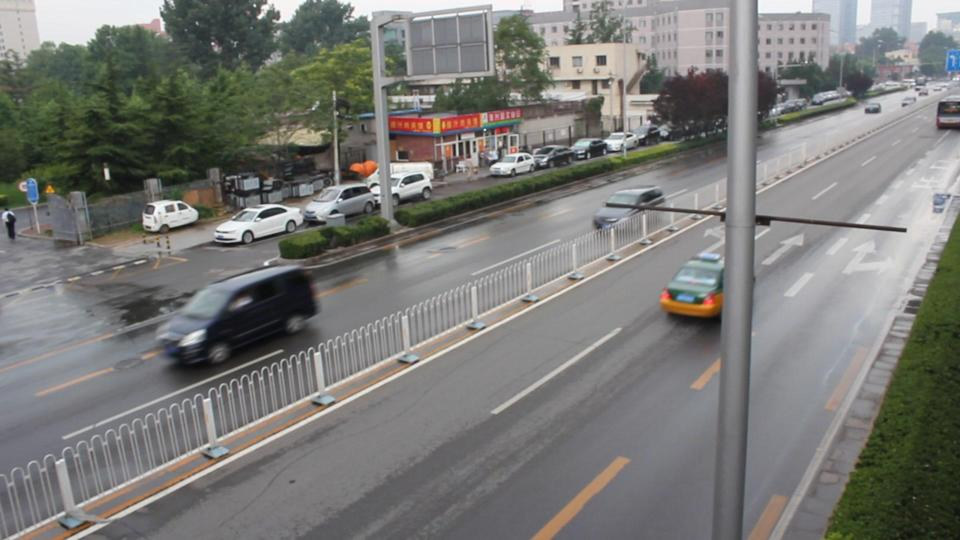bus: (935, 95, 960, 129)
car: (154, 264, 320, 367), (659, 248, 725, 319), (212, 203, 306, 245), (593, 185, 666, 230), (300, 183, 380, 224), (141, 199, 199, 233), (489, 153, 539, 177), (533, 146, 575, 170), (570, 138, 611, 160), (604, 132, 638, 152), (811, 90, 844, 105), (864, 102, 882, 114), (880, 82, 904, 91), (901, 95, 916, 107), (916, 87, 929, 96)
person: (1, 208, 19, 241)
truck: (363, 161, 435, 205)
